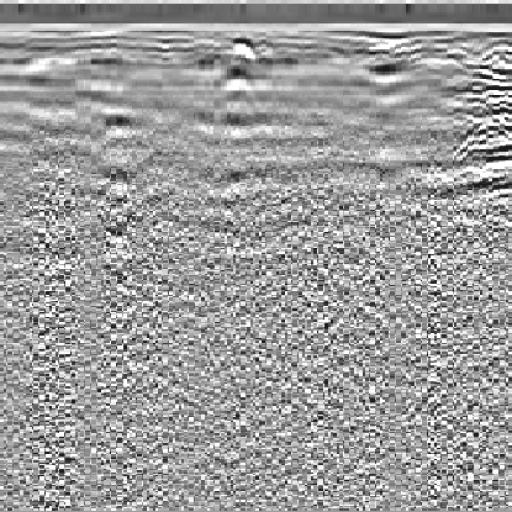metalic: (429, 41, 512, 246)
